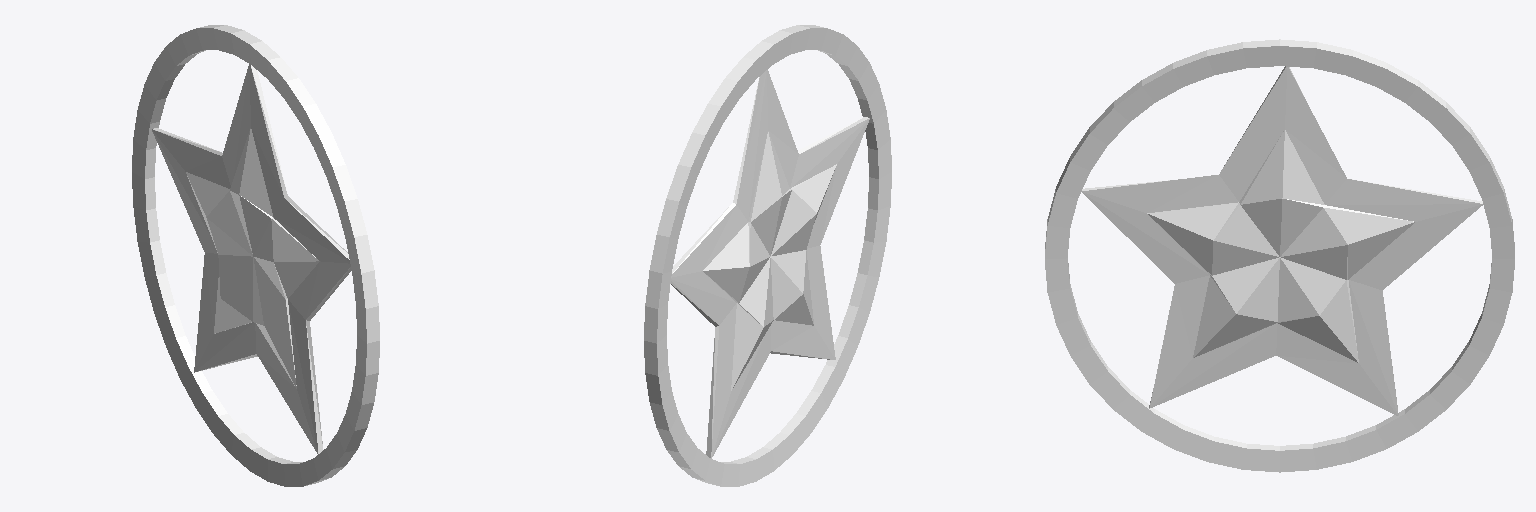
The model's file is moneta.obj.
The picture shows the model from 3 angles: view 1: azimuth 30°, elevation 25°; view 2: azimuth 150°, elevation 25°; view 3: azimuth 270°, elevation 25°; orthographic projection.
Visible parts, largest first — view 1: Cylinder002, Cylinder001; view 2: Cylinder002, Cylinder001; view 3: Cylinder002, Cylinder001.
Part boxes in pixels (x1,y1,x2,y2): Cylinder002: (152,64,351,453); Cylinder001: (132,25,379,486); Cylinder002: (671,70,869,458); Cylinder001: (644,25,891,486); Cylinder002: (1082,66,1482,415); Cylinder001: (1045,39,1514,472).
Size of the model in its own units: 11.88 by 155 by 155.